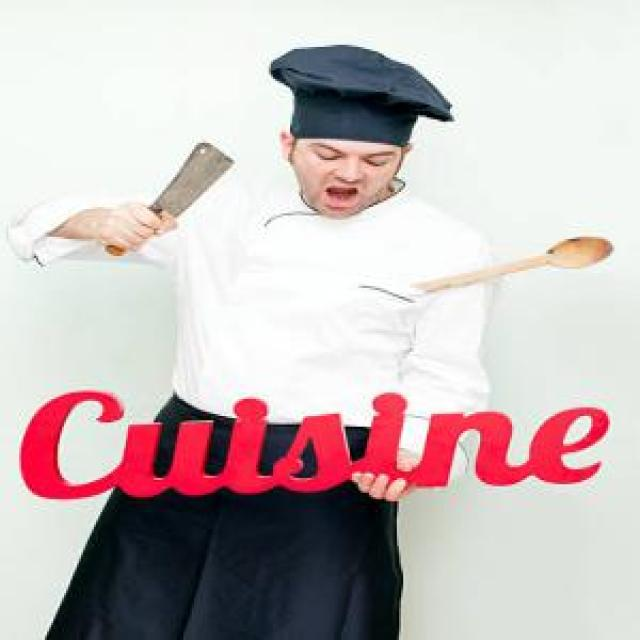knife: (102, 138, 237, 268)
